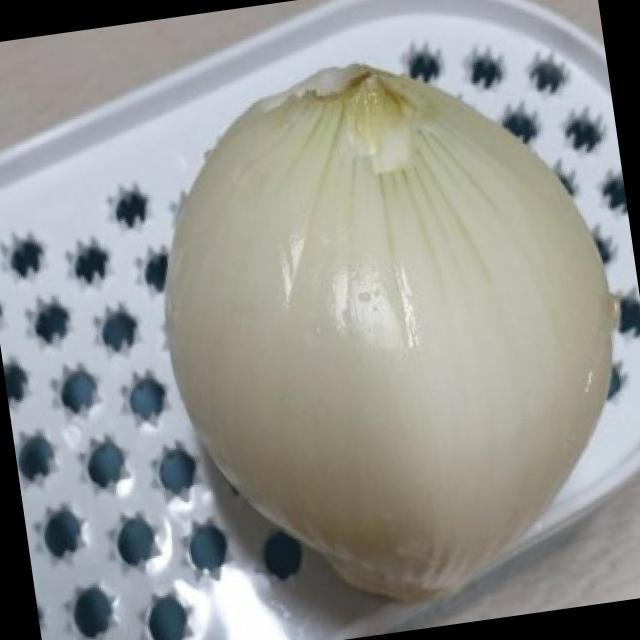Onion: (123, 16, 640, 633)
